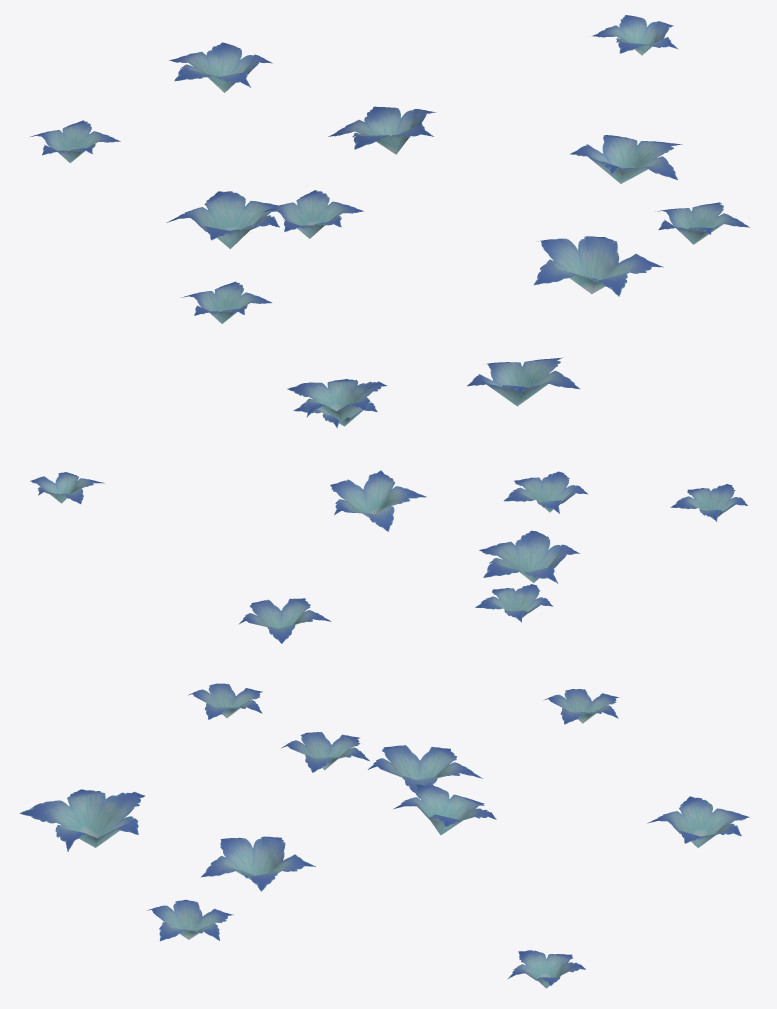
The model's file is Forest_plant_flower_007_12.fbx.
3 views of the same model, one above another, from view 1: azimuth 30°, elevation 25°; view 2: azimuth 150°, elevation 25°; view 3: azimuth 270°, elevation 25° (orthographic). The views are drawn at different scales.
Parts seen in each view (by area): view 1: Forest_plant_flower_007_12; view 2: Forest_plant_flower_007_12; view 3: Forest_plant_flower_007_12.
Part boxes in pixels (box(x1,y1,x2,y2)): Forest_plant_flower_007_12: box(29, 15, 749, 323); Forest_plant_flower_007_12: box(30, 357, 747, 643); Forest_plant_flower_007_12: box(19, 683, 749, 988).
Bounding box in the file's own units: 247 × 31.13 × 252.
